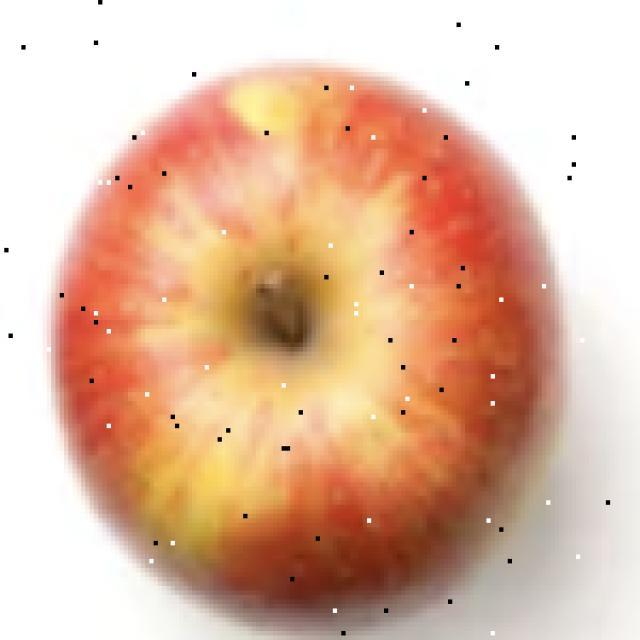Fresh Apple: (87, 82, 583, 608)
